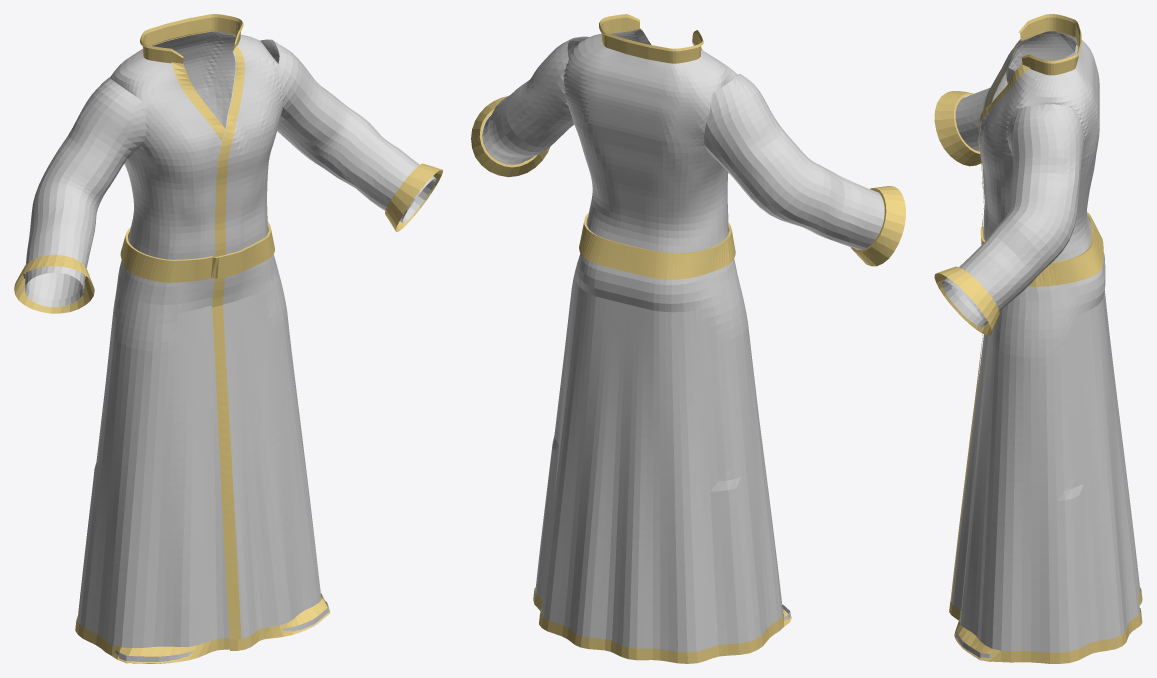
The model's file is ewb_anunnaki.glb.
3 views of the same model, side by side, from view 1: azimuth 30°, elevation 25°; view 2: azimuth 150°, elevation 25°; view 3: azimuth 270°, elevation 25° (orthographic). The views are drawn at different scales.
Visible parts, largest first — view 1: ewb_anunnaki; view 2: ewb_anunnaki; view 3: ewb_anunnaki.
Boxes of the visible parts, <box> form: ewb_anunnaki: <box>14,14,442,663</box>; ewb_anunnaki: <box>471,14,905,663</box>; ewb_anunnaki: <box>934,14,1142,663</box>.
Bounding box in the file's own units: 1.23 × 1.6 × 0.5263.
